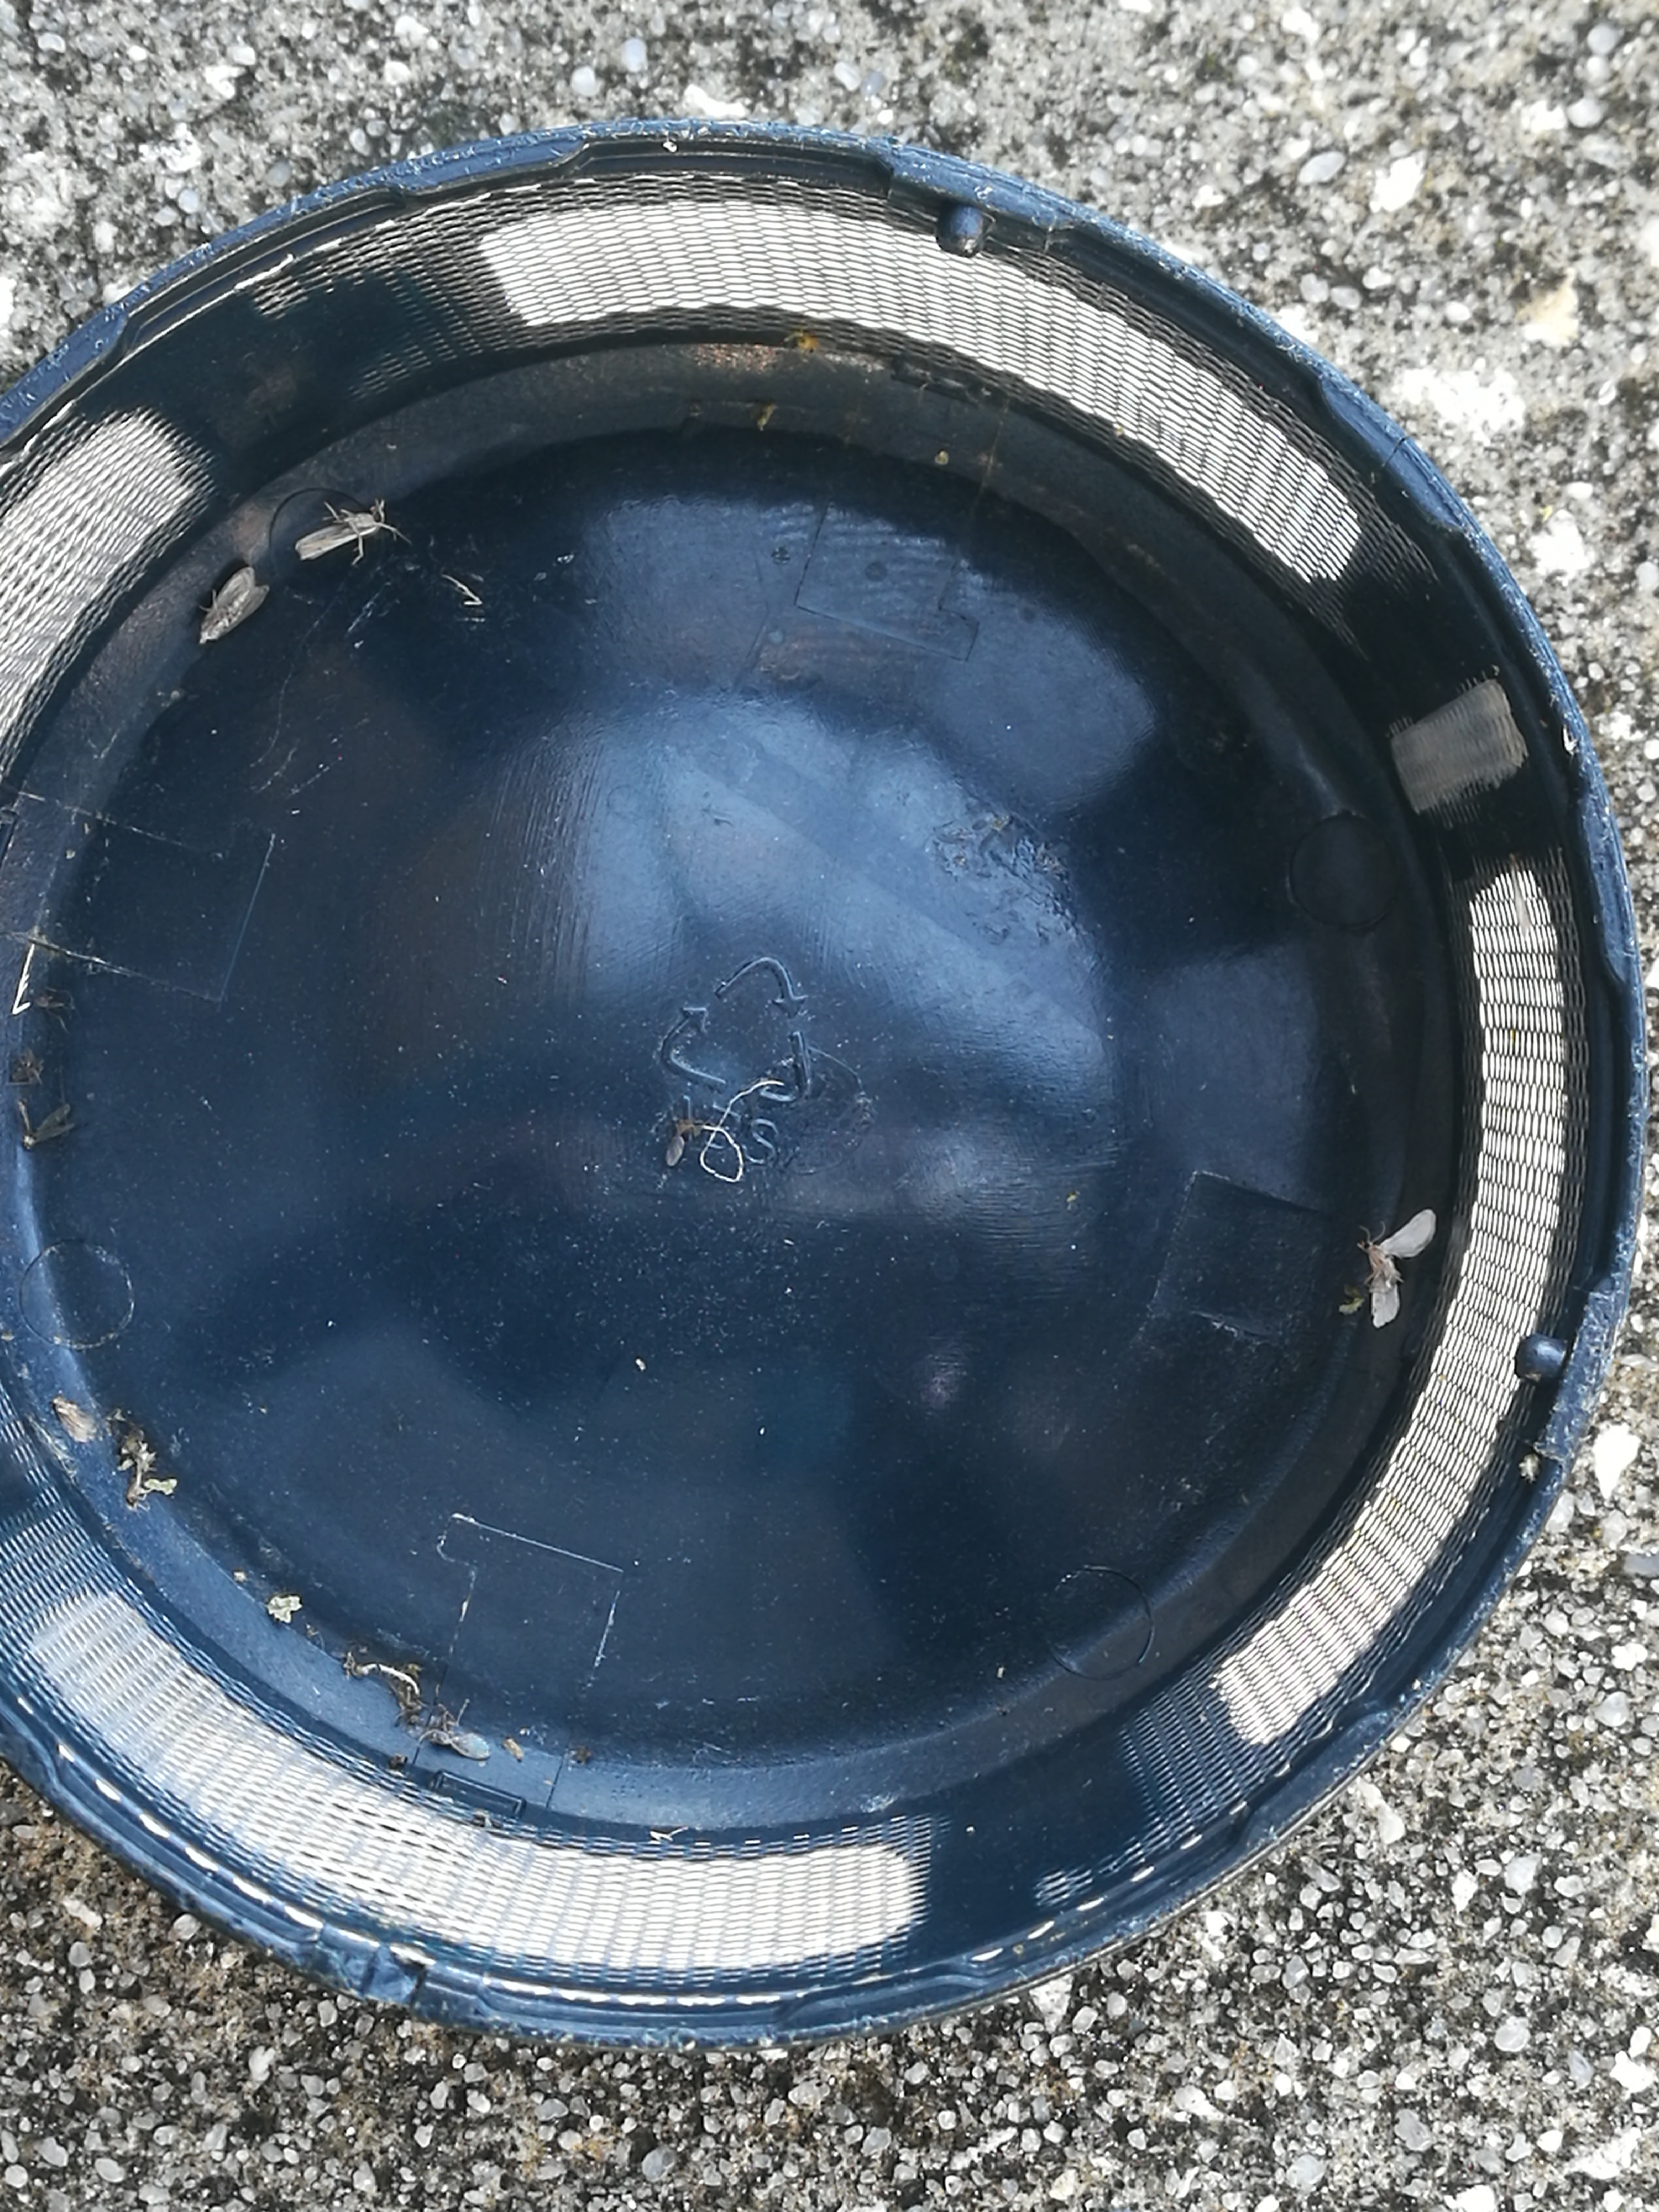mosquito: (295, 503, 383, 559)
moth: (1358, 1211, 1438, 1327), (197, 566, 268, 643)
